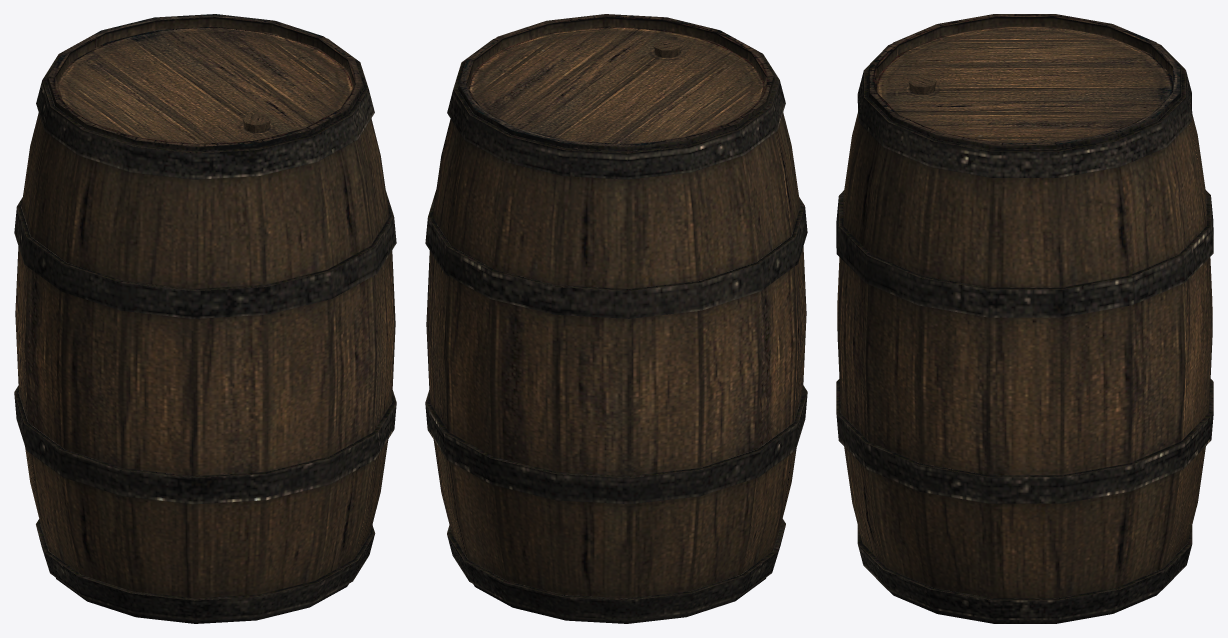
Rendered from wooden_barrel_1.obj.
3 renders of one model, left to right at view 1: azimuth 30°, elevation 25°; view 2: azimuth 150°, elevation 25°; view 3: azimuth 270°, elevation 25°, orthographic.
Parts seen in each view (by area): view 1: wooden_barrel_1; view 2: wooden_barrel_1; view 3: wooden_barrel_1.
Part boxes in pixels (x1,y1,x2,y2): wooden_barrel_1: [14, 14, 396, 623]; wooden_barrel_1: [425, 14, 807, 623]; wooden_barrel_1: [836, 14, 1213, 623].
Bounding box in the file's own units: 0.7863 × 1.1 × 0.7863.
